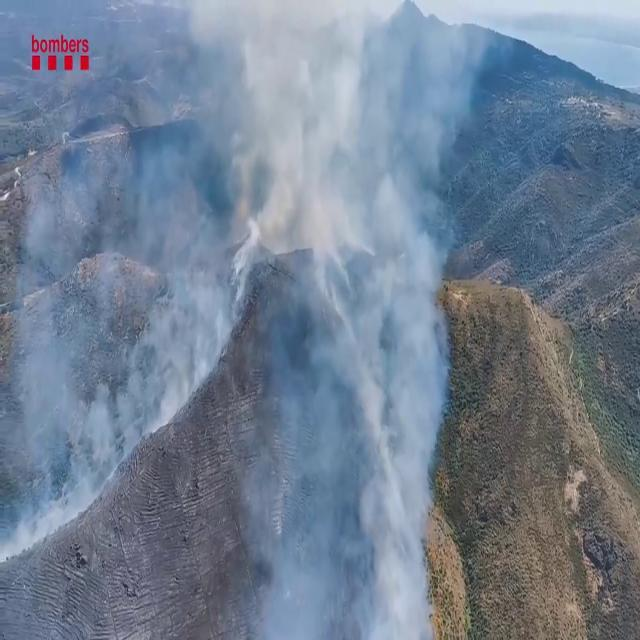Smoke: (2, 4, 482, 628), (0, 75, 236, 578)
